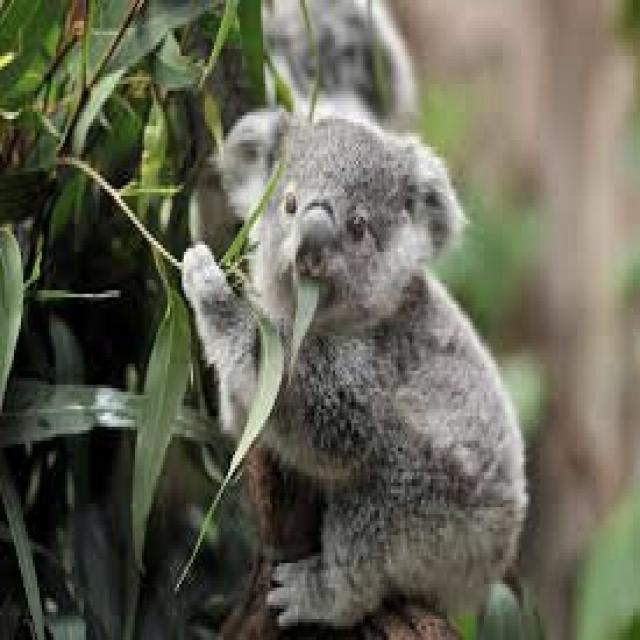koala: (182, 108, 526, 623)
